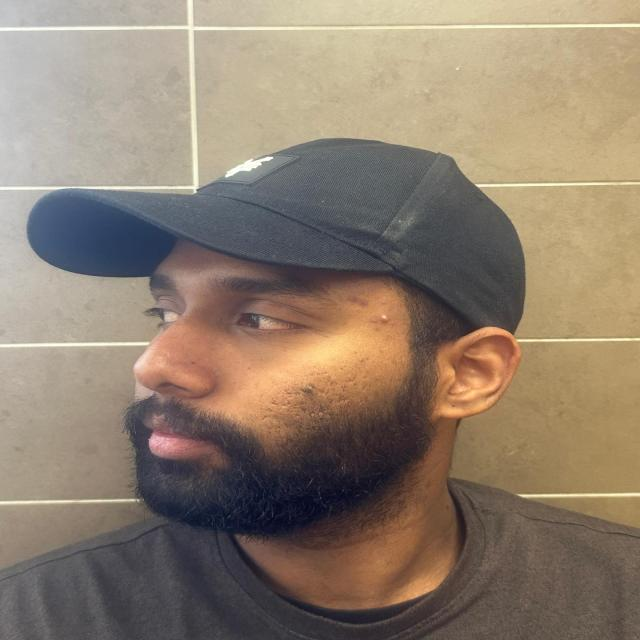cap: (13, 128, 557, 339)
